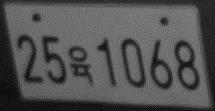0: (121, 37, 147, 87)
1: (94, 37, 120, 87)
2: (15, 34, 44, 84)
5: (40, 35, 67, 83)
6: (149, 39, 174, 89)
8: (172, 38, 200, 90)
육: (67, 45, 94, 86)
